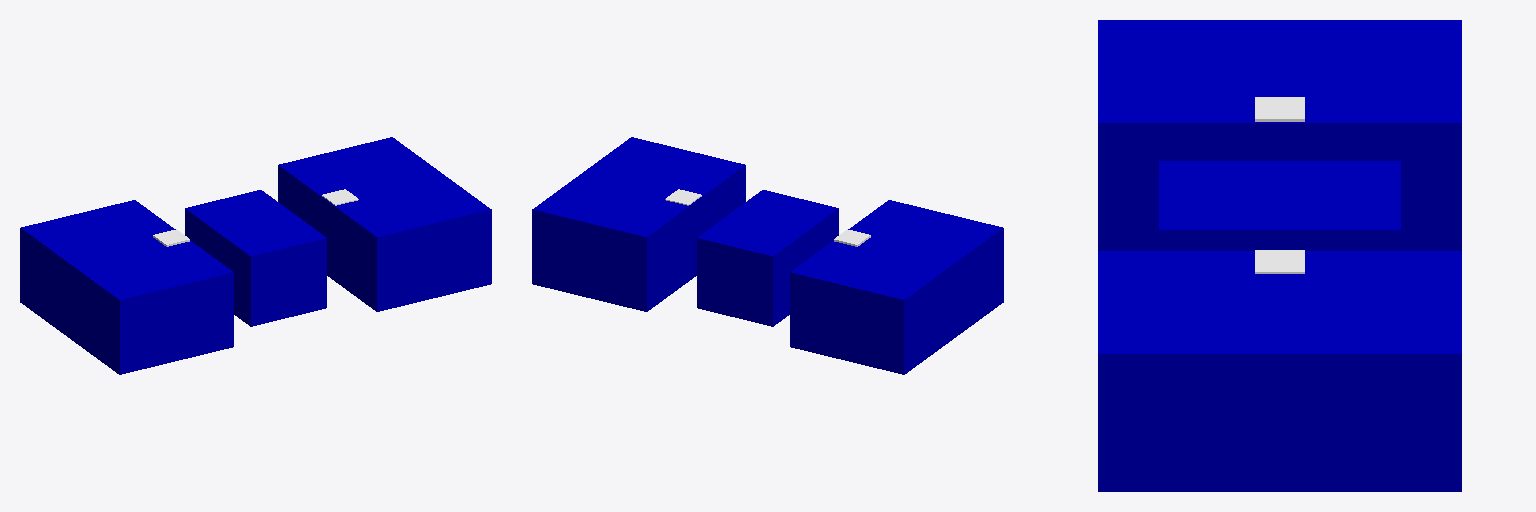
The robot description file, URDF, robot "robot_table":
<?xml version="1.0"?>
<!--<robot xmlns:xacro="http://wiki.ros.org/xacro" name="robot_table">
    <xacro:macro name="robot_table">-->
<robot name="robot_table">
        <link name="world" />

        <material name="blue">
            <color rgba="0 0 0.8 1"/>
        </material>

        <material name="white">
            <color rgba="1 1 1 1"/>
        </material>

        <link name="table_middle">
            <visual>
                <geometry>
                    <box size="0.8 1.2 0.705" />
                </geometry>
                <origin xyz="0 0 0.3525" rpy="0 0 0" />
                <material name="blue" />
            </visual>
        </link>

        <joint name="world_to_table" type="fixed">
            <parent link="world" />
            <child link="table_middle" />
            <origin xyz="0 0 0" rpy="0 0 0" />
        </joint>

        <link name="table_base_hong">
          <visual>
              <geometry>
                  <box size="1.2 1.8 0.75" />
              </geometry>
              <origin xyz="0 0 0.375" rpy="0 0 0" />
              <material name="blue" />
          </visual>
        </link>

        <link name="upper_block_hong" >
          <visual>
              <geometry>
                  <box size="0.25 0.25 0.02" />
              </geometry>
              <origin xyz="0 0 0.01" rpy="0 0 0" />
              <material name="white" />
          </visual>
        </link>

        <joint name="world_to_table_hong" type="fixed">
            <parent link="world" />
            <child link="table_base_hong" />
            <origin xyz="-1.35 0 0" rpy="0 0 0" />
        </joint>

        <joint name="table_to_block_hong" type="fixed">
            <parent link="table_base_hong" />
            <child link="upper_block_hong" />
            <origin xyz="0.465 0 0.75" rpy="0 0 0" />
        </joint>

        <link name="table_base_kong">
          <visual>
              <geometry>
                  <box size="1.2 1.8 0.75" />
              </geometry>
              <origin xyz="0 0 0.375" rpy="0 0 0" />
              <material name="blue" />
          </visual>
        </link>

        <link name="upper_block_kong" >
          <visual>
              <geometry>
                  <box size="0.25 0.25 0.02" />
                  <origin xyz="0 0 0.01" rpy="0 0 0" />
              </geometry>
              <material name="white" />
          </visual>
        </link>

        <joint name="world_to_table_kong" type="fixed">
            <parent link="world" />
            <child link="table_base_kong" />
            <origin xyz="1.35 0 0" rpy="0 0 0" />
        </joint>

        <joint name="table_to_block_kong" type="fixed">
            <parent link="table_base_kong" />
            <child link="upper_block_kong" />
            <origin xyz="-0.465 0 0.75" rpy="0 0 0" />
        </joint>


</robot>

--- Render facts (derived) ---
3 views of the same robot in one strip: view 1: azimuth 30°, elevation 25°; view 2: azimuth 150°, elevation 25°; view 3: azimuth 270°, elevation 25° (orthographic).
Model robot_table with 6 links and 5 joints (5 fixed), rooted at world, posed every joint at zero.
Links seen in each view (by area): view 1: table_base_hong, table_base_kong, table_middle; view 2: table_base_hong, table_base_kong, table_middle; view 3: table_base_kong, table_base_hong, table_middle, upper_block_hong, upper_block_kong.
Boxes of the visible links, <box> form: table_base_hong: <box>20,200,233,374</box>; table_base_kong: <box>278,137,491,311</box>; table_middle: <box>185,190,326,326</box>; table_base_hong: <box>790,200,1003,374</box>; table_base_kong: <box>532,137,745,311</box>; table_middle: <box>697,190,838,326</box>; table_base_kong: <box>1098,251,1461,491</box>; table_base_hong: <box>1098,20,1461,250</box>; table_middle: <box>1159,161,1400,250</box>; upper_block_hong: <box>1255,97,1304,121</box>; upper_block_kong: <box>1255,250,1304,273</box>.
Bounding box of the posed robot: 3.9 × 1.8 × 0.77 m (x, y, z).
Geometry: primitives only (box / cylinder / sphere), no mesh files.
